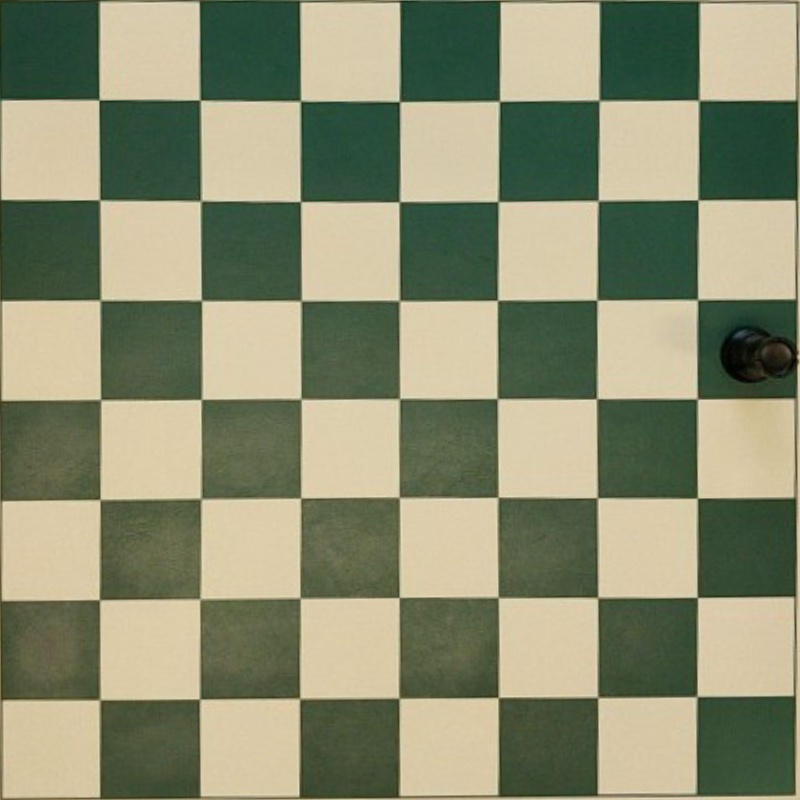black-rook: (721, 324, 797, 382)
